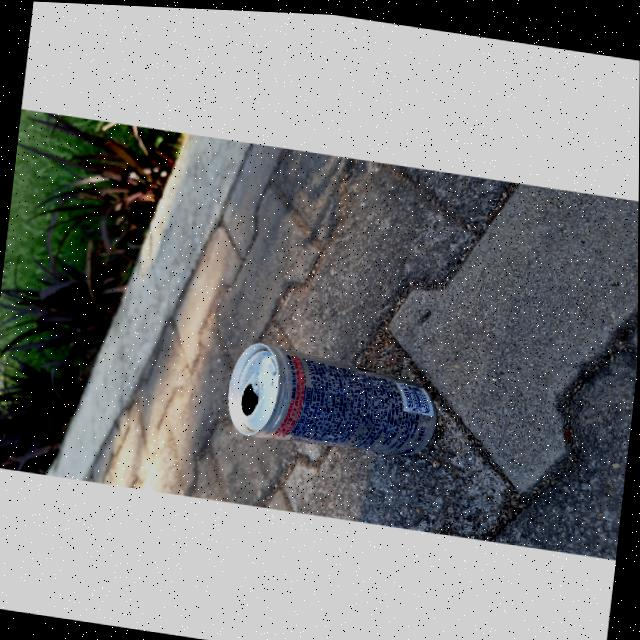Redbull: (229, 341, 435, 459)
